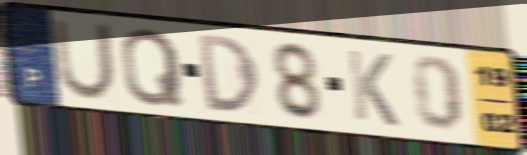0: (409, 52, 467, 136)
8: (269, 39, 324, 123)
D: (194, 31, 263, 115)
K: (344, 46, 402, 130)
Q: (118, 26, 187, 108)
U: (51, 18, 118, 103)
